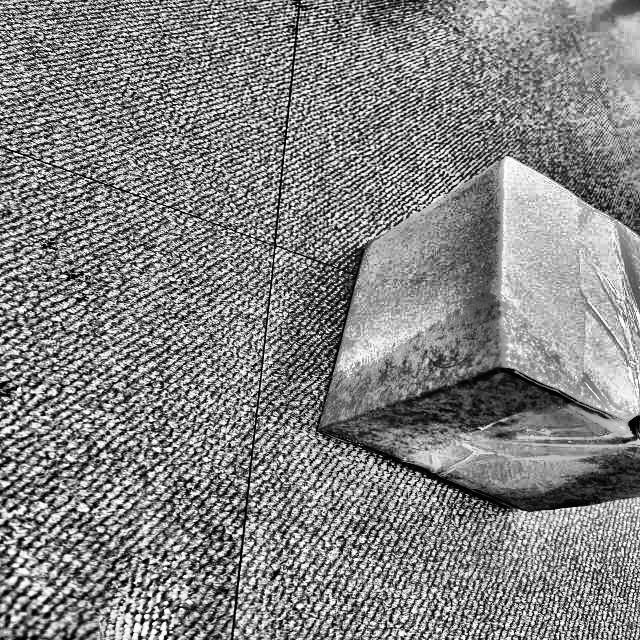box: (310, 150, 639, 519)
wet: (313, 297, 639, 517)
